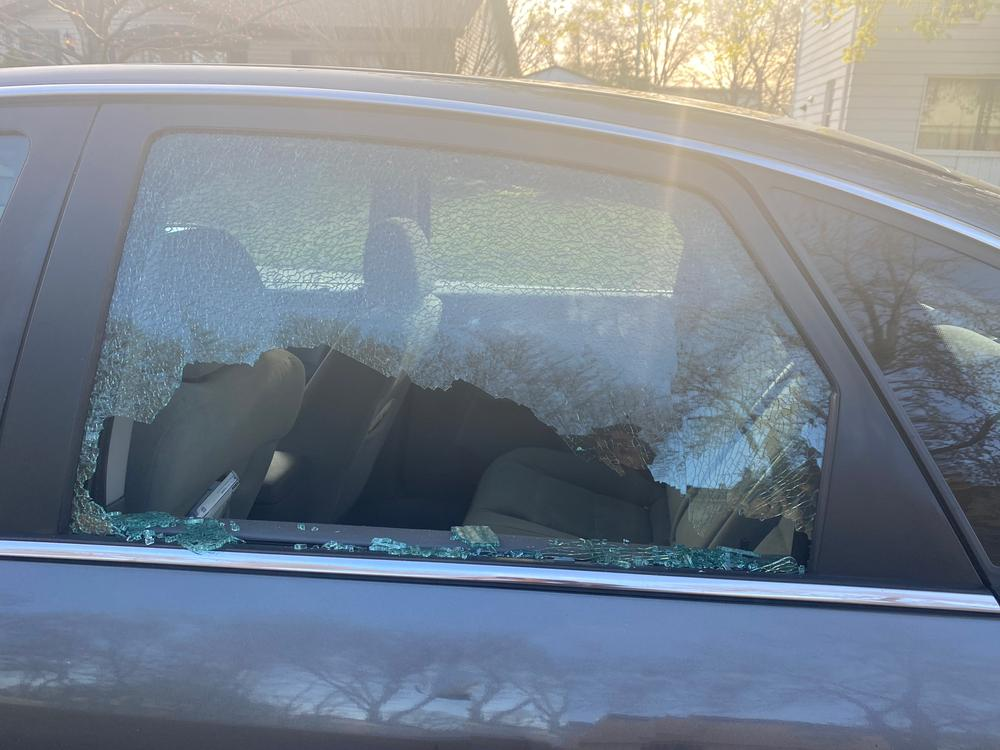glass shatter: (70, 132, 833, 575)
